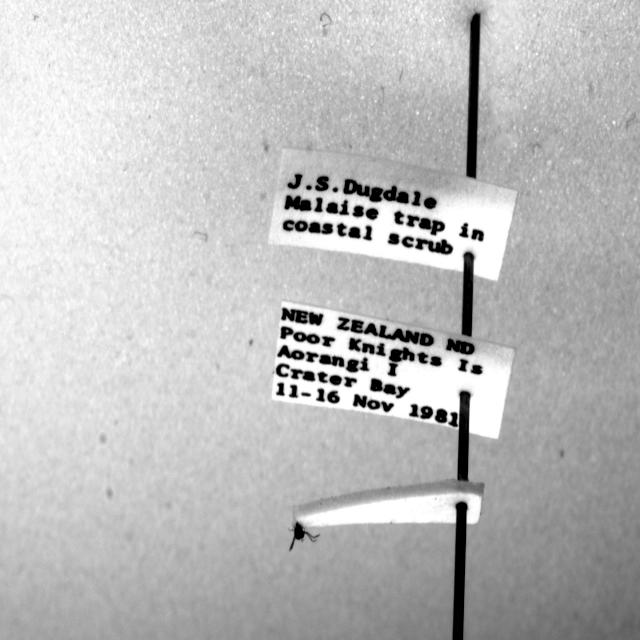typed_label: (272, 302, 514, 439), (269, 148, 518, 279)
